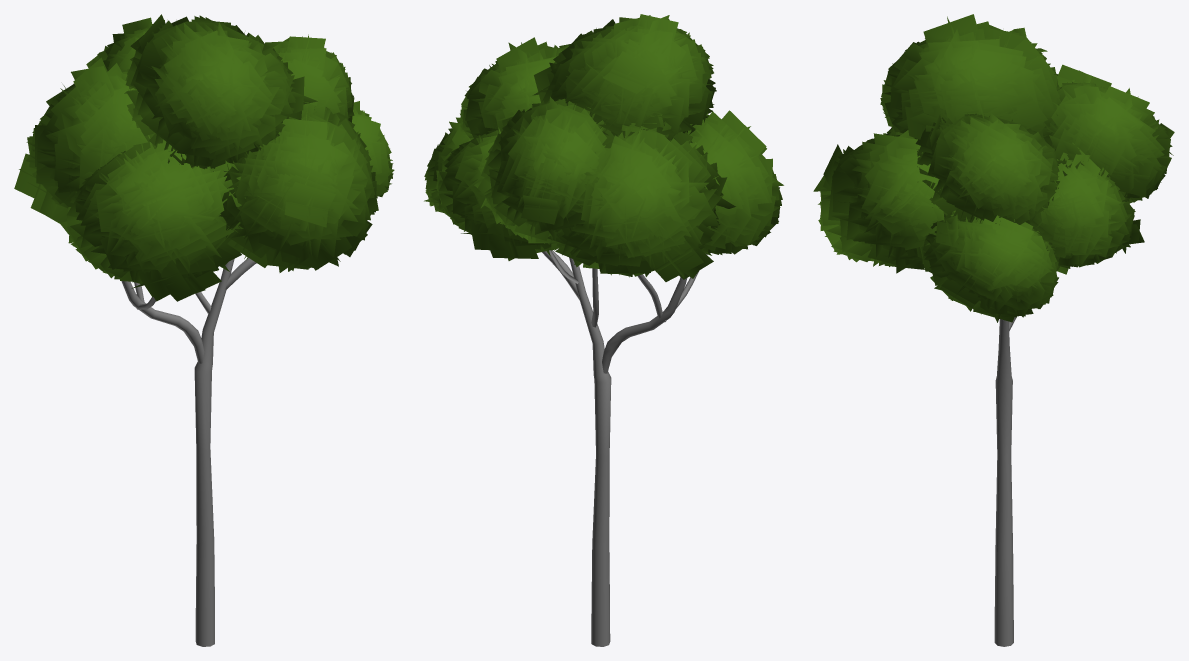
Rendered from SM_tree_ruins_01.fbx.
3 renders of one model, left to right at view 1: azimuth 30°, elevation 25°; view 2: azimuth 150°, elevation 25°; view 3: azimuth 270°, elevation 25°, orthographic. The views are drawn at different scales.
Visible parts, largest first — view 1: Line008; view 2: Line008; view 3: Line008.
Part boxes in pixels (x1=…): Line008: x1=14, y1=14, x2=394, y2=646; Line008: x1=424, y1=14, x2=783, y2=646; Line008: x1=813, y1=14, x2=1174, y2=646.
Bounding box in the file's own units: 166 × 313 × 168.
